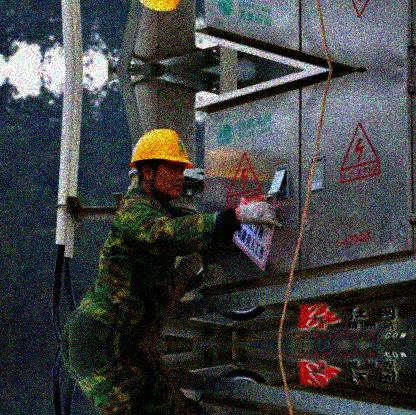helmet: (130, 129, 195, 199)
